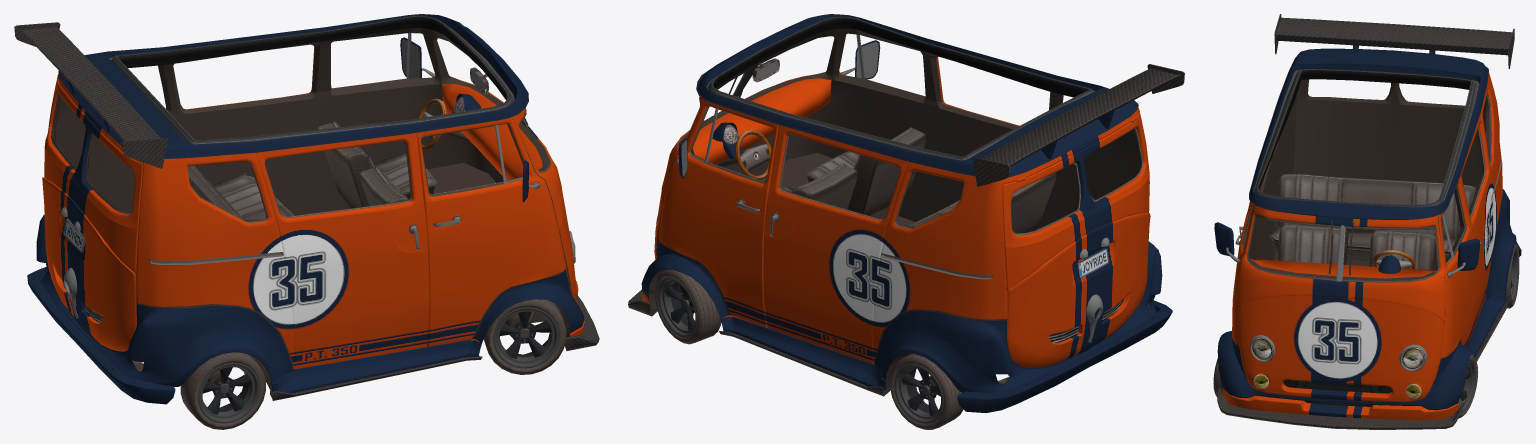
Rendered from onibus.glb.
The picture shows the model from 3 angles, left to right: view 1: azimuth 30°, elevation 25°; view 2: azimuth 150°, elevation 25°; view 3: azimuth 270°, elevation 25°; orthographic projection. The views are drawn at different scales.
Parts seen in each view (by area): view 1: node_id165, node_id163, node_id167, node_id64, node_id81, node_id139, node_id173, node_id115, node_id108, node_id112, node_id117, node_id78 (+5 smaller); view 2: node_id165, node_id163, node_id64, node_id167, node_id81, node_id139, node_id173, node_id101, node_id94, node_id98, node_id105, node_id76 (+7 smaller); view 3: node_id165, node_id163, node_id64, node_id81, node_id167, node_id71, node_id173, node_id171, node_id179, node_id187, node_id158, node_id151 (+4 smaller).
Boxes of the visible parts, left/top/right/bottom form: node_id165: left=36, top=14, right=584, bottom=392; node_id163: left=52, top=27, right=570, bottom=392; node_id167: left=108, top=15, right=514, bottom=144; node_id64: left=187, top=121, right=436, bottom=219; node_id81: left=14, top=22, right=167, bottom=168; node_id139: left=27, top=267, right=175, bottom=404; node_id173: left=51, top=79, right=550, bottom=264; node_id115: left=493, top=307, right=558, bottom=368; node_id108: left=198, top=362, right=259, bottom=423; node_id112: left=180, top=352, right=265, bottom=429; node_id117: left=489, top=303, right=563, bottom=373; node_id78: left=270, top=356, right=482, bottom=400; node_id165: left=641, top=14, right=1162, bottom=392; node_id163: left=648, top=28, right=1141, bottom=389; node_id64: left=782, top=127, right=1056, bottom=264; node_id167: left=706, top=16, right=1095, bottom=160; node_id81: left=972, top=64, right=1184, bottom=186; node_id139: left=957, top=300, right=1172, bottom=412; node_id173: left=678, top=58, right=1142, bottom=279; node_id101: left=894, top=364, right=943, bottom=423; node_id94: left=658, top=277, right=696, bottom=337; node_id98: left=656, top=269, right=721, bottom=344; node_id105: left=890, top=354, right=963, bottom=429; node_id76: left=719, top=331, right=890, bottom=396; node_id165: left=1217, top=48, right=1516, bottom=420; node_id163: left=1232, top=79, right=1515, bottom=359; node_id64: left=1269, top=174, right=1476, bottom=270; node_id81: left=1274, top=14, right=1514, bottom=68; node_id167: left=1253, top=69, right=1479, bottom=207; node_id71: left=1217, top=387, right=1463, bottom=429; node_id173: left=1242, top=91, right=1502, bottom=282; node_id171: left=1242, top=206, right=1454, bottom=371; node_id179: left=1283, top=380, right=1392, bottom=406; node_id187: left=1252, top=338, right=1424, bottom=369; node_id158: left=1457, top=238, right=1480, bottom=270; node_id151: left=1214, top=222, right=1234, bottom=256.
Size of the model in its own units: 0.4112 by 0.2443 by 0.2834.
58 materials, 58 textured.
